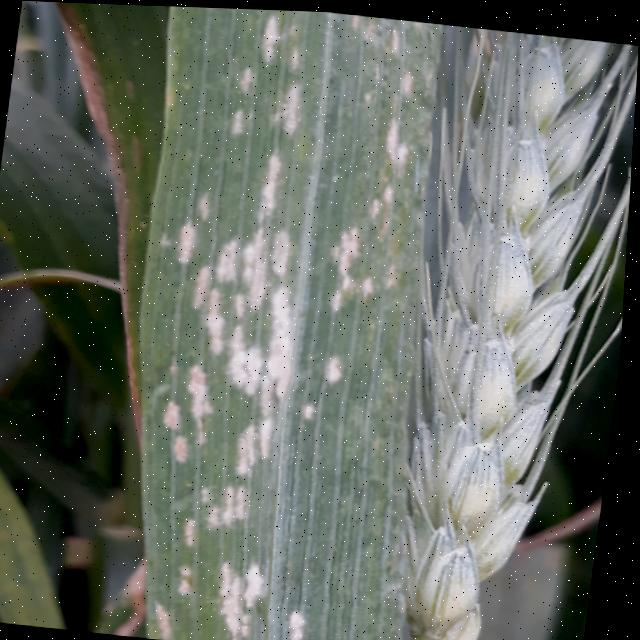powder_mildew: (94, 4, 485, 640), (356, 18, 640, 640), (21, 1, 158, 15)
